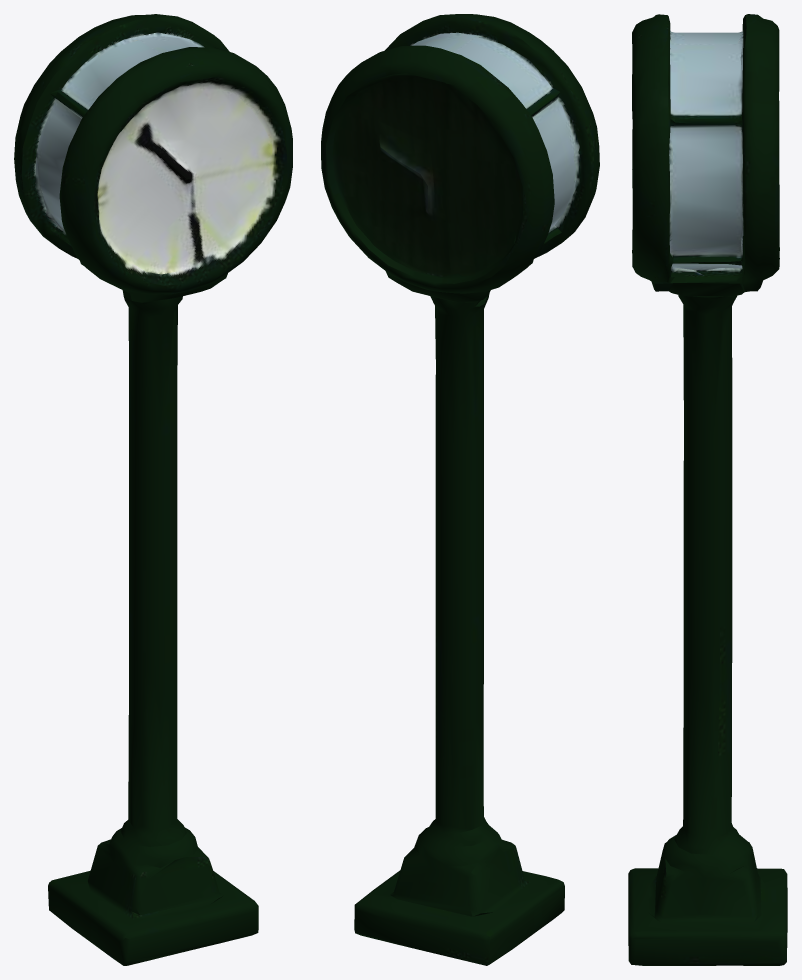
Rendered from clockpole.glb.
3 views of the same model, side by side, from view 1: azimuth 30°, elevation 25°; view 2: azimuth 150°, elevation 25°; view 3: azimuth 270°, elevation 25° (orthographic).
Parts seen in each view (by area): view 1: clockpole; view 2: clockpole; view 3: clockpole.
Boxes of the visible parts, x1,y1,x2,y2 form: clockpole: (14,14,292,965); clockpole: (321,14,599,965); clockpole: (628,14,787,965).
Bounding box in the file's own units: 0.9155 × 3.4 × 0.5417.
Materials: 1 (1 with a texture image).
